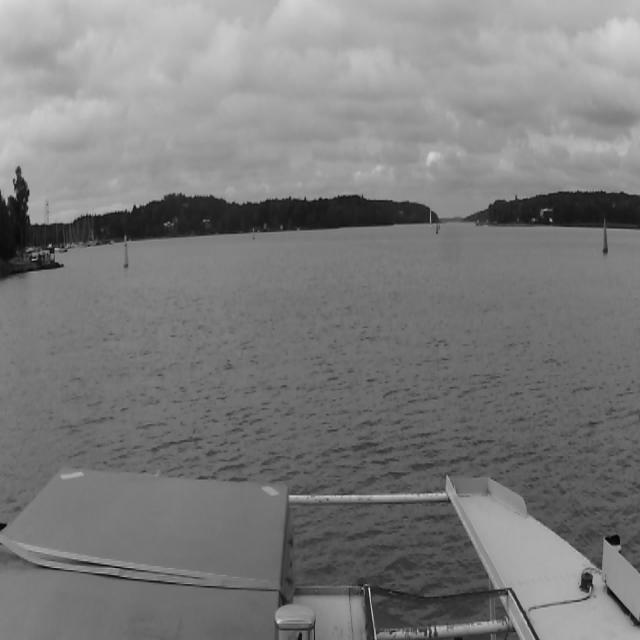buoy: (599, 220, 609, 258), (122, 236, 129, 270), (252, 224, 256, 241), (436, 222, 440, 238), (436, 220, 438, 230)
ship: (429, 204, 432, 227)
